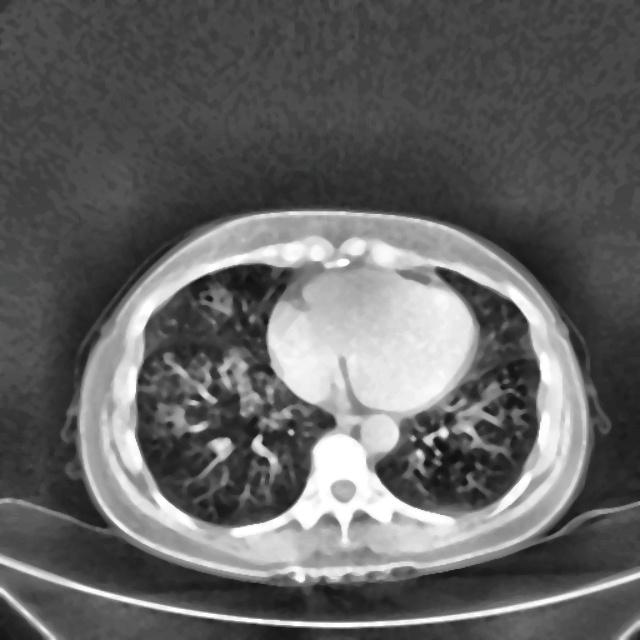covid: (64, 208, 606, 586)
